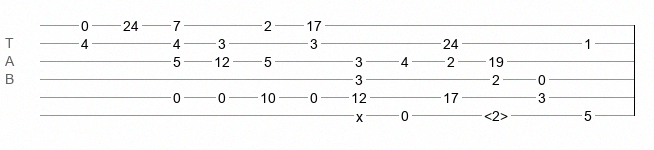0: (81, 18, 89, 28), (173, 90, 181, 100), (218, 90, 226, 100), (310, 90, 318, 100), (401, 108, 409, 118), (538, 72, 546, 82)
1: (584, 36, 592, 46)
10: (260, 90, 276, 100)
12: (214, 54, 230, 64), (351, 90, 367, 100)
17: (306, 18, 322, 28), (443, 90, 459, 100)
19: (488, 54, 504, 64)
2: (264, 18, 272, 28), (447, 54, 455, 64), (492, 72, 500, 82)
24: (123, 18, 139, 28), (443, 36, 459, 46)
3: (218, 36, 226, 46), (310, 36, 318, 46), (355, 54, 363, 64), (355, 72, 363, 82), (538, 90, 546, 100)
4: (81, 36, 89, 46), (173, 36, 181, 46), (401, 54, 409, 64)
5: (173, 54, 181, 64), (264, 54, 272, 64), (584, 108, 592, 118)
7: (173, 18, 181, 28)
harmonic: (484, 108, 508, 118)
x: (356, 109, 363, 117)
